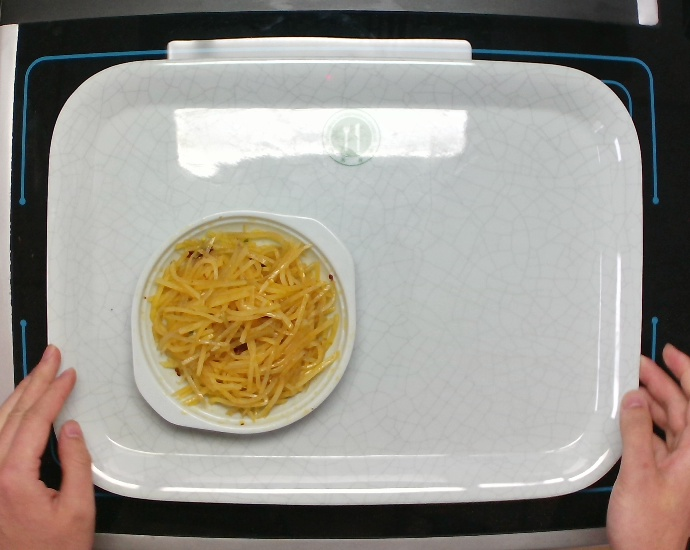JYsf-Shuang_Er_Pan: (128, 208, 358, 436)
